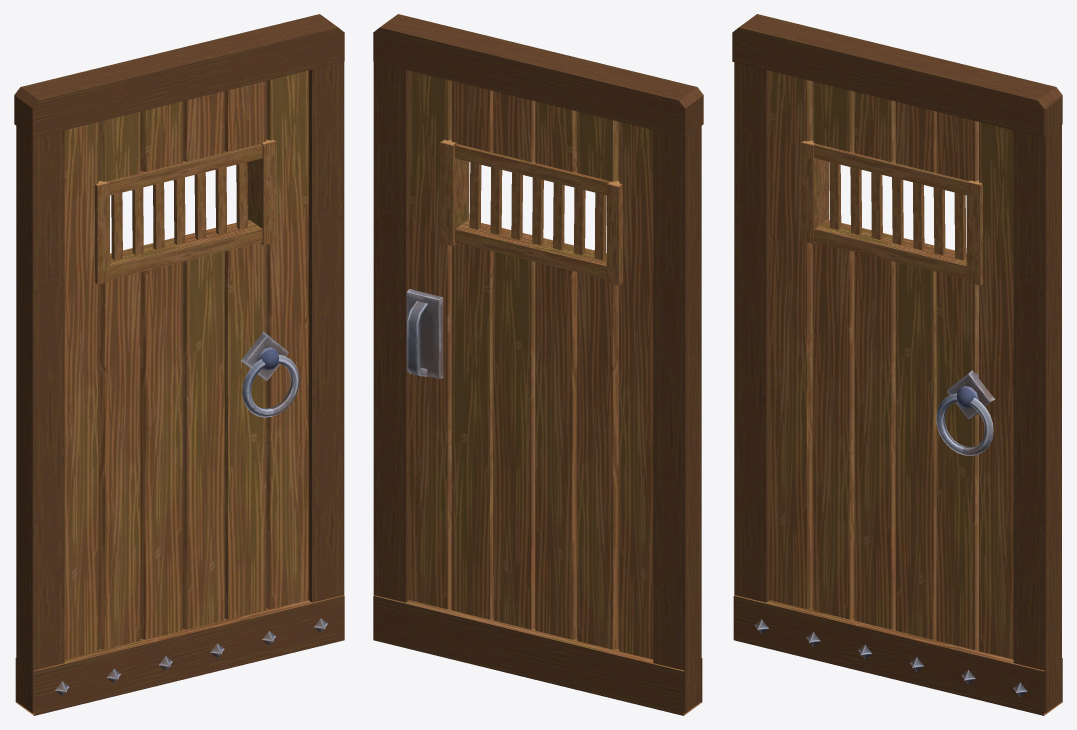
The model's file is door_8_flat.glb.
3 renders of one model, left to right at view 1: azimuth 30°, elevation 25°; view 2: azimuth 150°, elevation 25°; view 3: azimuth 330°, elevation 25°, orthographic.
Size of the model in its own units: 1.12 by 2.1 by 0.1995.
2 materials, 2 textured.
